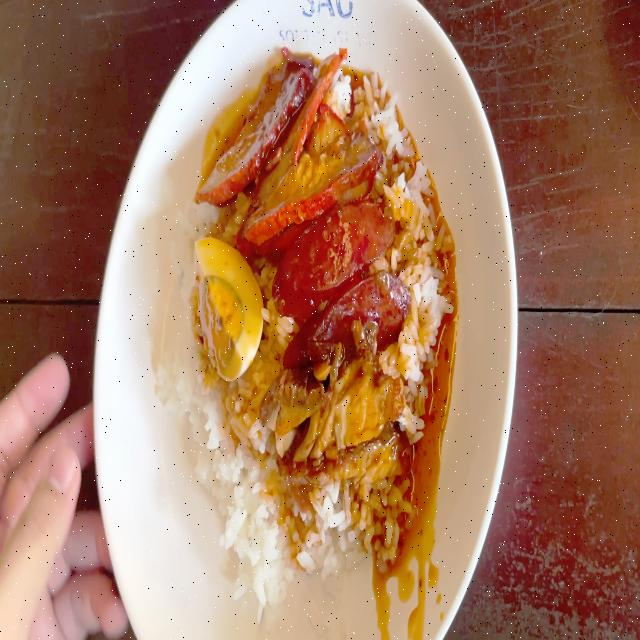boiled_egg: (192, 249, 260, 359)
chainese_sausage: (279, 210, 398, 344)
crispy_pork: (276, 365, 410, 474)
red_pork: (206, 60, 383, 216)
red_pork_and_crispy_pork: (176, 75, 449, 560)
rice: (240, 486, 398, 596), (171, 379, 268, 546)
